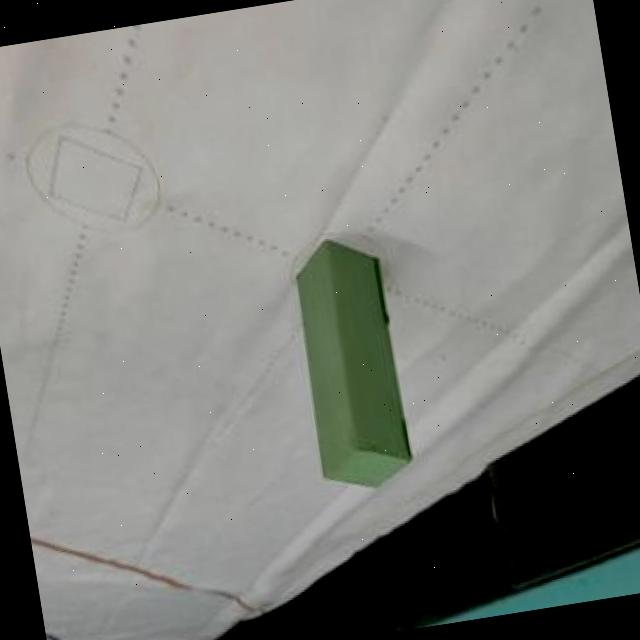greenbox: (282, 234, 416, 494)
